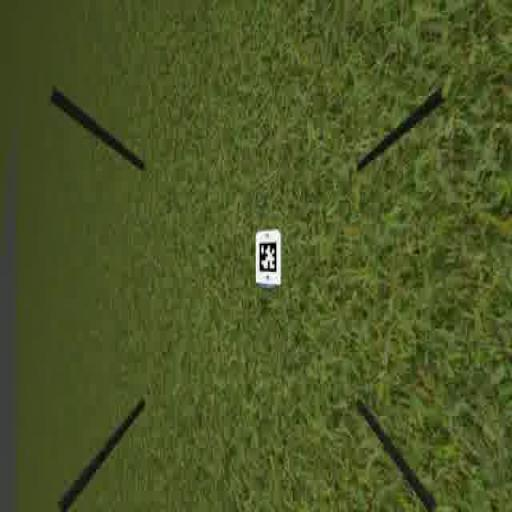UGV: (252, 225, 284, 293)
